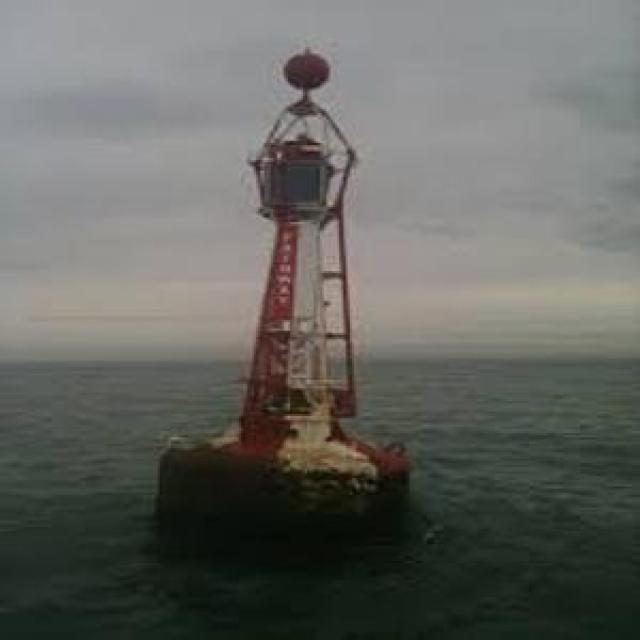buoy: (163, 40, 415, 518)
